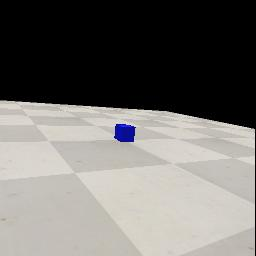box: (114, 124, 136, 142)
